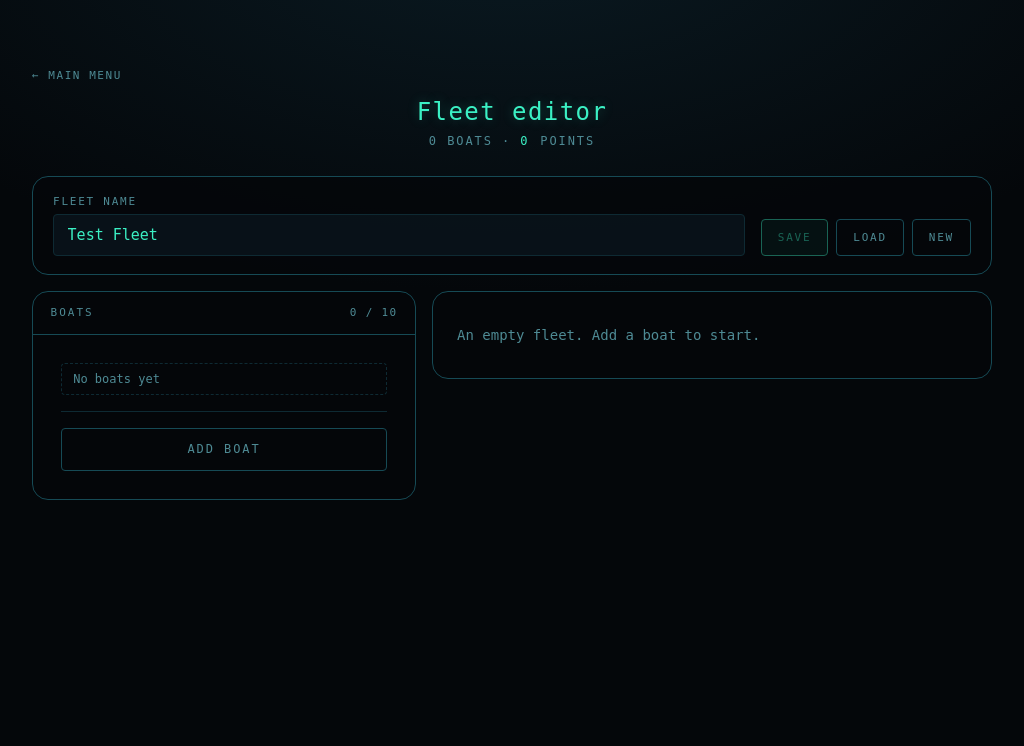
Scenario: adding boats › runs the fleet total from the shared cost function
Click the button "ADD BOAT" at (224, 449), box [61, 428, 387, 471]
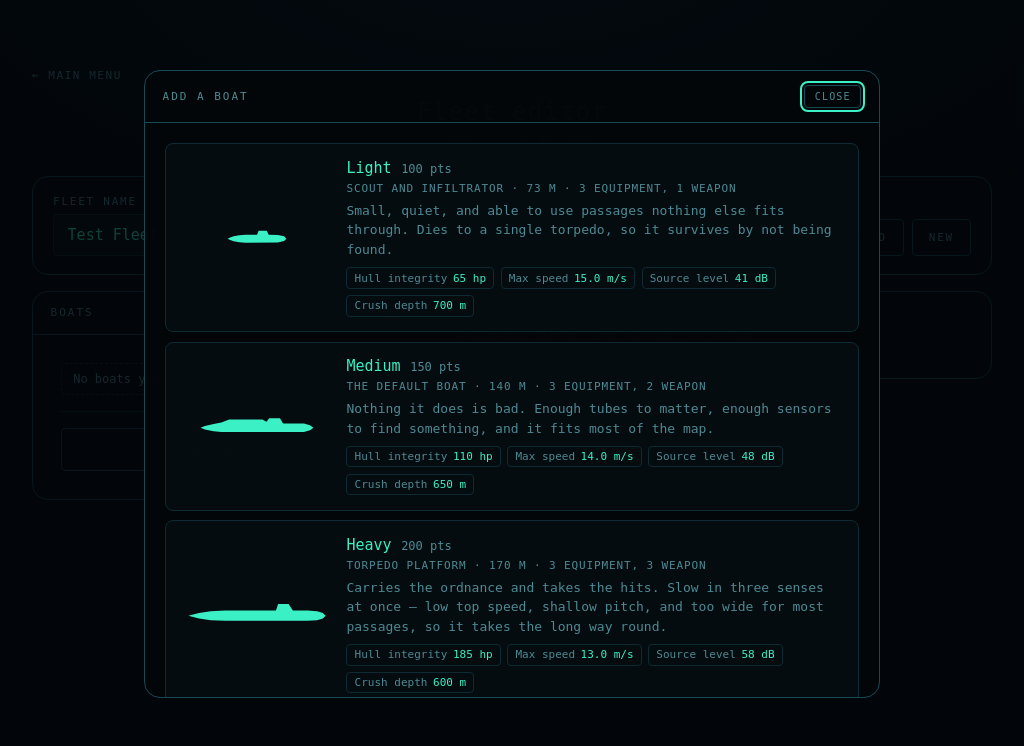
Click the button that starts with "Light" at (512, 238), box [165, 143, 859, 332]
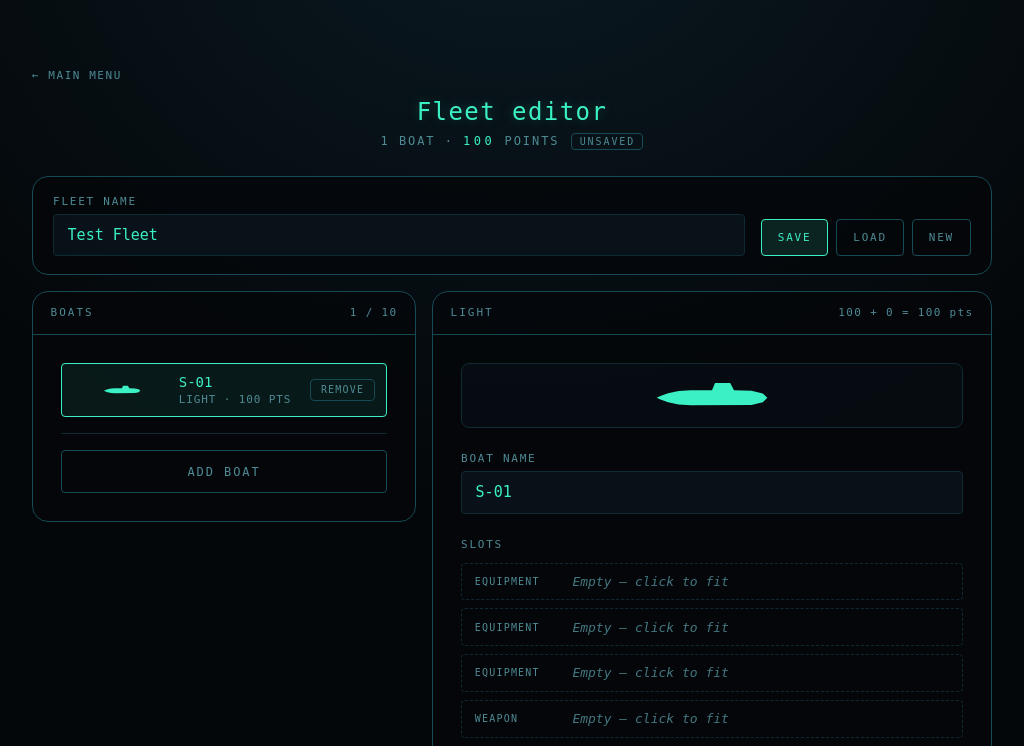
Click the button "ADD BOAT" at (224, 472), box [61, 450, 387, 493]
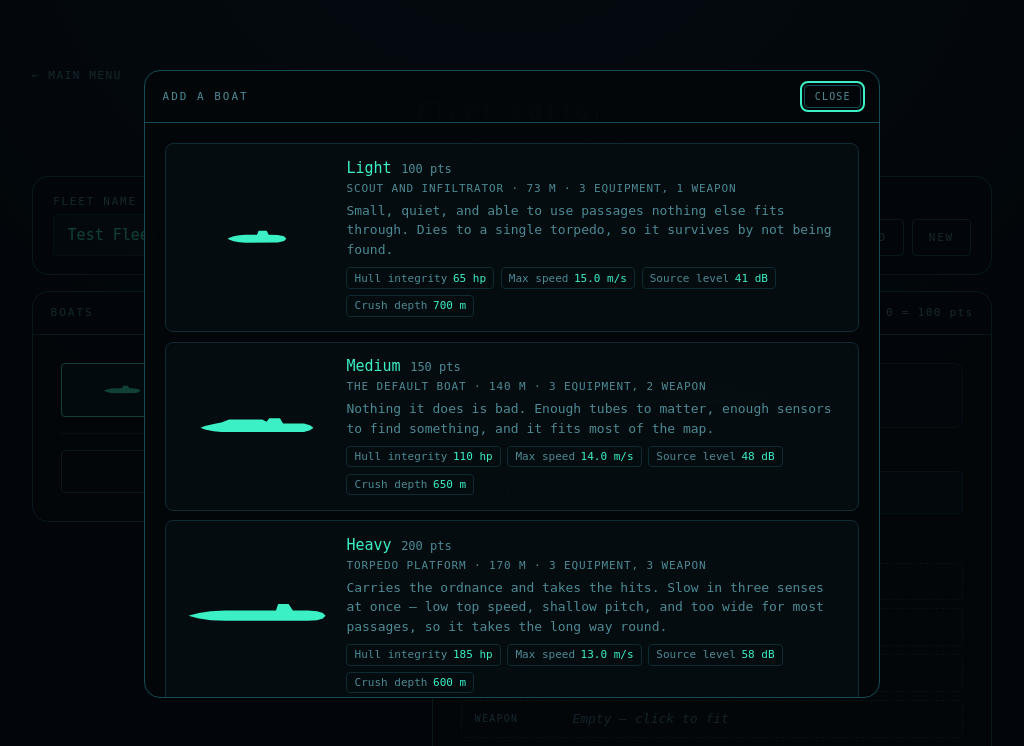
Click the button that starts with "Heavy" at (512, 614), box [165, 520, 859, 709]
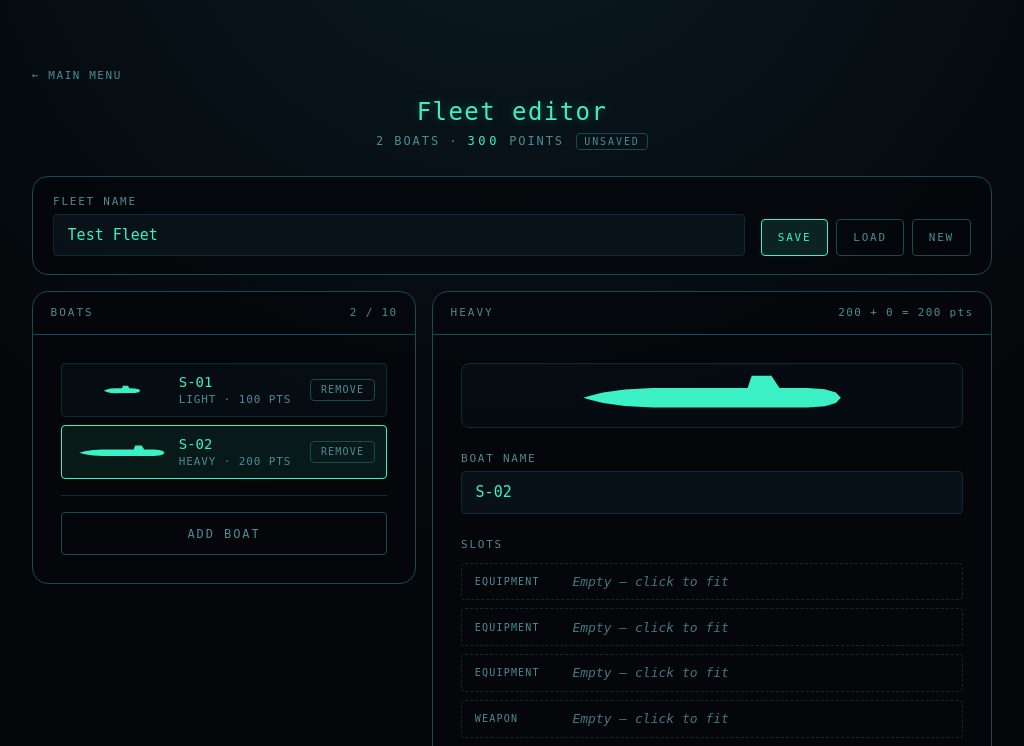
Check: the text "300" is shown, box [468, 134, 500, 148]
